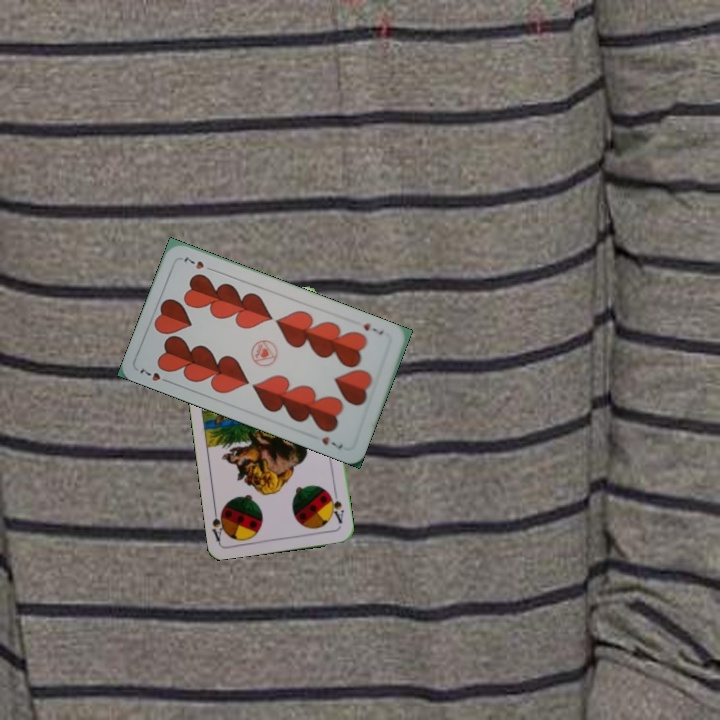H7: (135, 365, 174, 386), (359, 319, 386, 338)
SA: (325, 487, 347, 526)
